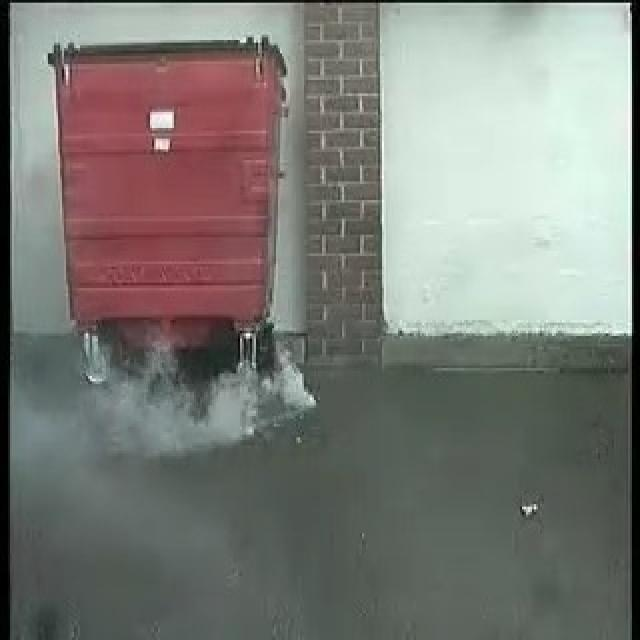smoke: (97, 347, 320, 459)
